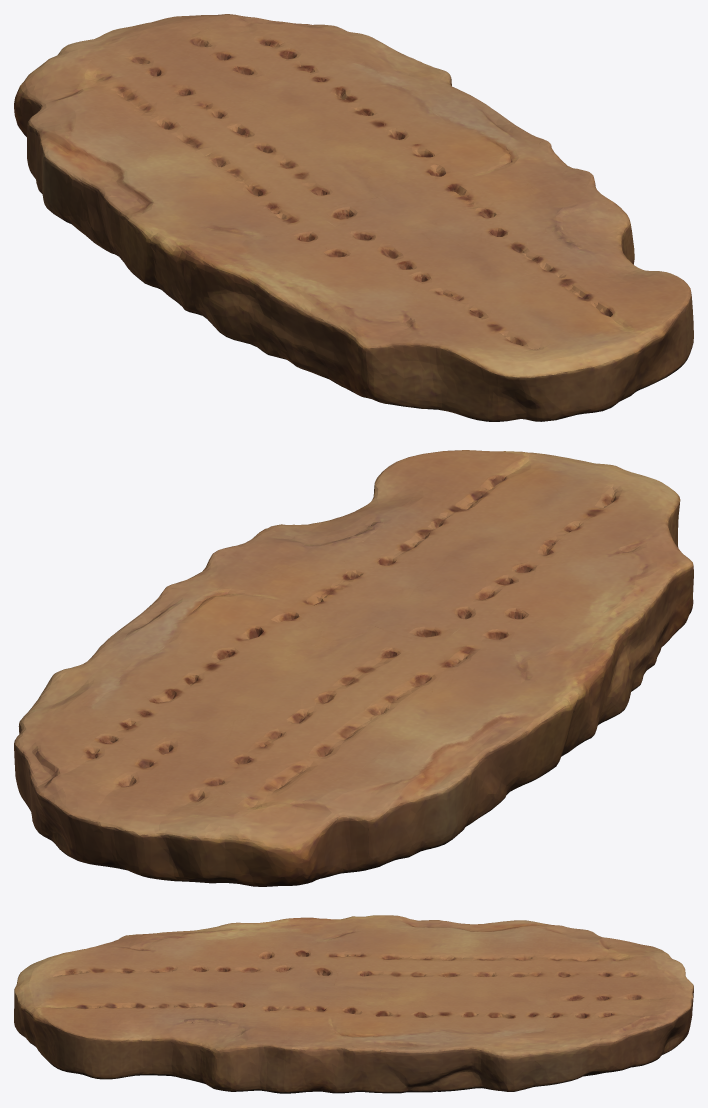
3 renders of one model, top to bottom at view 1: azimuth 30°, elevation 25°; view 2: azimuth 150°, elevation 25°; view 3: azimuth 270°, elevation 25°, orthographic. The views are drawn at different scales.
Visible parts, largest first — view 1: world; view 2: world; view 3: world.
Boxes of the visible parts, x1=… form: world: x1=14, y1=14, x2=693, y2=421; world: x1=14, y1=450, x2=693, y2=886; world: x1=14, y1=915, x2=693, y2=1093.
Bounding box in the file's own units: 0.3181 × 0.0515 × 0.65.
Materials: 1 (1 with a texture image).
